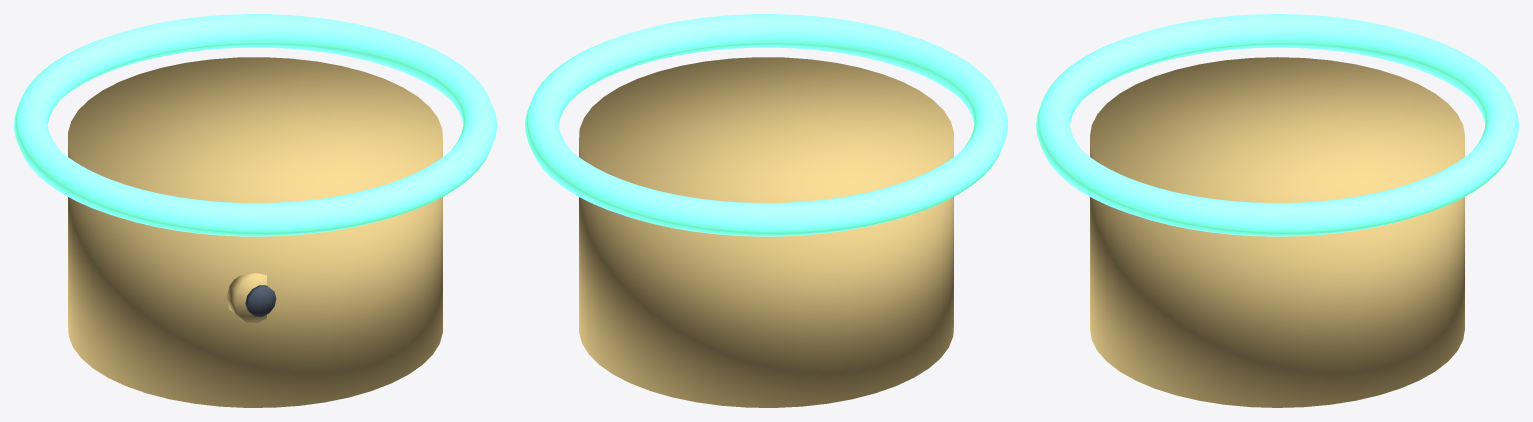
Rendered from 73_L84_ADCSCertificationBeacon.glb.
The picture shows the model from 3 angles, left to right: view 1: azimuth 30°, elevation 25°; view 2: azimuth 150°, elevation 25°; view 3: azimuth 270°, elevation 25°; orthographic projection.
Visible parts, largest first — view 1: L84_ADCSCertificationBeacon_Part_0000, L84_ADCSCertificationBeacon_Part_0001, L84_ADCSCertificationBeacon_Part_0002, L84_ADCSCertificationBeacon_Part_0003; view 2: L84_ADCSCertificationBeacon_Part_0000, L84_ADCSCertificationBeacon_Part_0001; view 3: L84_ADCSCertificationBeacon_Part_0000, L84_ADCSCertificationBeacon_Part_0001.
Part boxes in pixels (box(x1,y1,x2,y2)): L84_ADCSCertificationBeacon_Part_0000: box(68, 57, 442, 407); L84_ADCSCertificationBeacon_Part_0001: box(14, 14, 496, 236); L84_ADCSCertificationBeacon_Part_0002: box(226, 273, 266, 322); L84_ADCSCertificationBeacon_Part_0003: box(245, 285, 276, 316); L84_ADCSCertificationBeacon_Part_0000: box(579, 57, 953, 407); L84_ADCSCertificationBeacon_Part_0001: box(525, 14, 1007, 236); L84_ADCSCertificationBeacon_Part_0000: box(1090, 57, 1464, 407); L84_ADCSCertificationBeacon_Part_0001: box(1036, 14, 1518, 236).
Bounding box in the file's own units: 1.18 × 0.5914 × 1.18.
